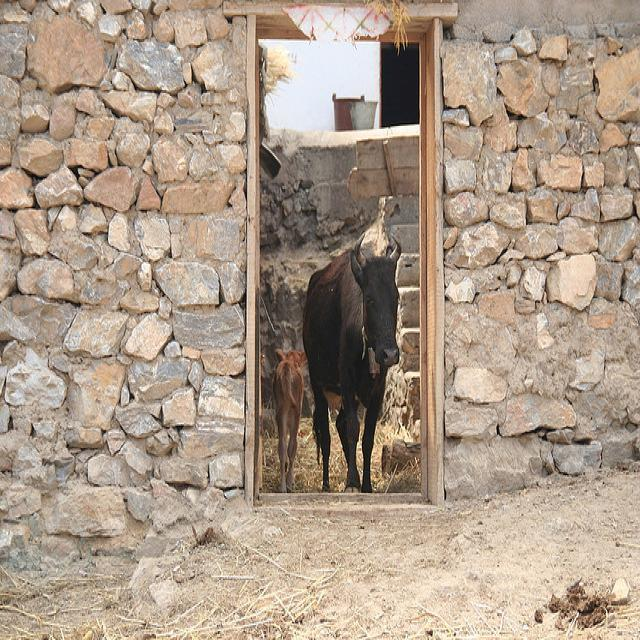cow: (301, 231, 401, 492), (270, 346, 305, 490)
